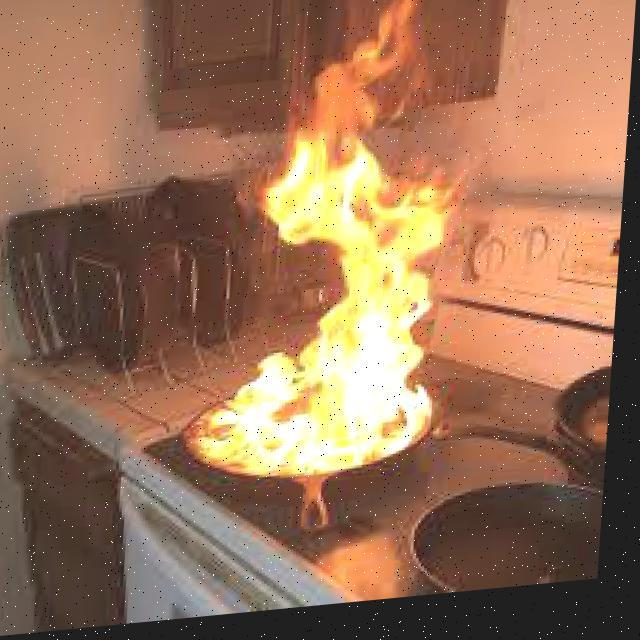Fire: (200, 6, 514, 488)
